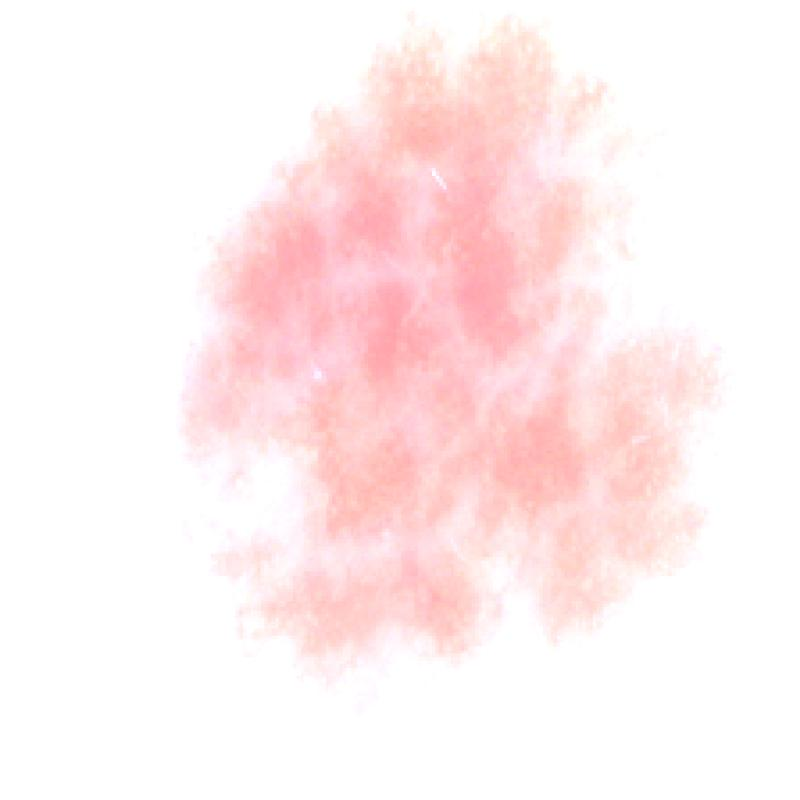benign: (143, 12, 769, 719)
